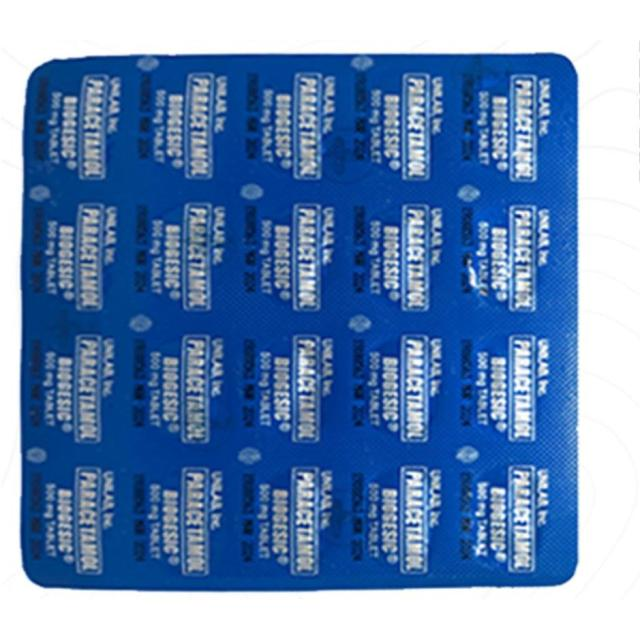blister: (13, 46, 583, 594)
